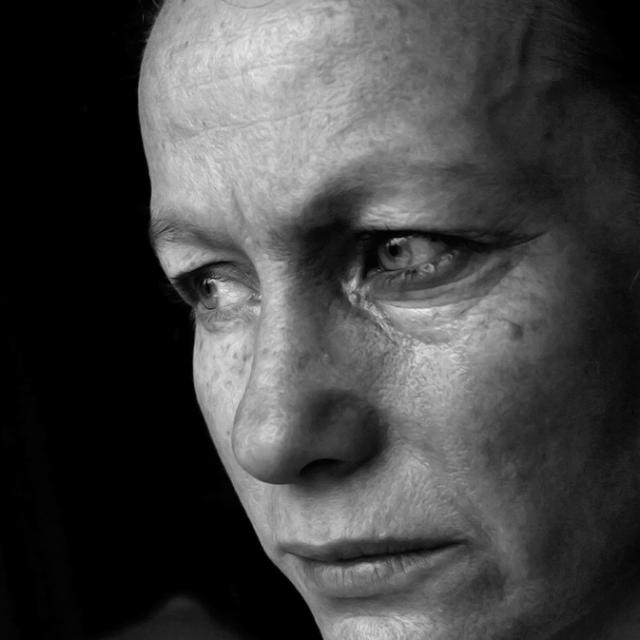Depress: (138, 5, 639, 639)
